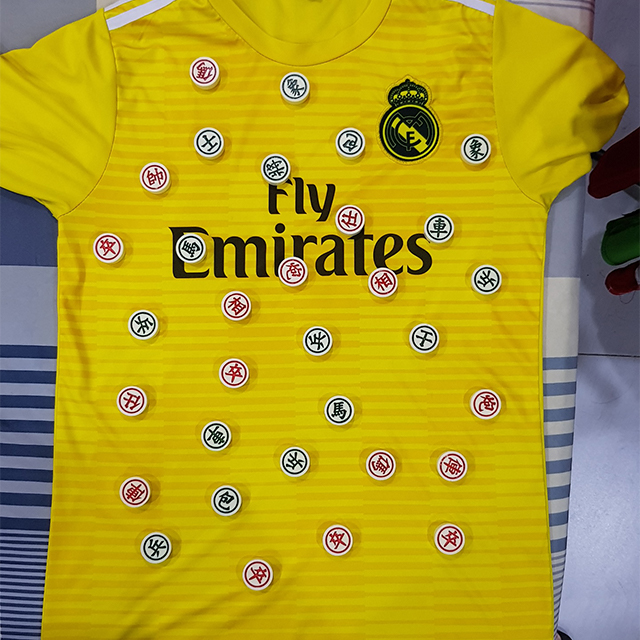Black-Cannon: (211, 484, 247, 523), (334, 125, 370, 160)
Black-Chariot: (424, 211, 457, 248), (200, 418, 233, 452)
Black-Elephant: (460, 132, 492, 170), (280, 69, 312, 105)
Black-General: (260, 152, 294, 186)
Black-Guard: (192, 124, 229, 162), (410, 322, 441, 357)
Black-Horse: (322, 394, 359, 429), (176, 230, 209, 265)
Black-Soldier: (125, 308, 163, 342), (279, 446, 314, 482), (140, 531, 175, 566), (472, 261, 505, 298), (301, 326, 337, 358)
Red-Cannon: (468, 387, 506, 425), (276, 255, 311, 290)
Red-Chariot: (118, 474, 153, 512), (438, 448, 470, 486)
Red-Elephant: (220, 288, 254, 326), (367, 266, 402, 302)
Red-General: (142, 160, 174, 196)
Red-Guard: (116, 382, 151, 418), (335, 205, 368, 235)
Red-Horse: (188, 53, 223, 90), (365, 448, 397, 484)
Red-Soldier: (92, 230, 127, 269), (432, 522, 468, 556), (242, 557, 276, 593), (219, 356, 252, 392), (321, 524, 358, 556)
